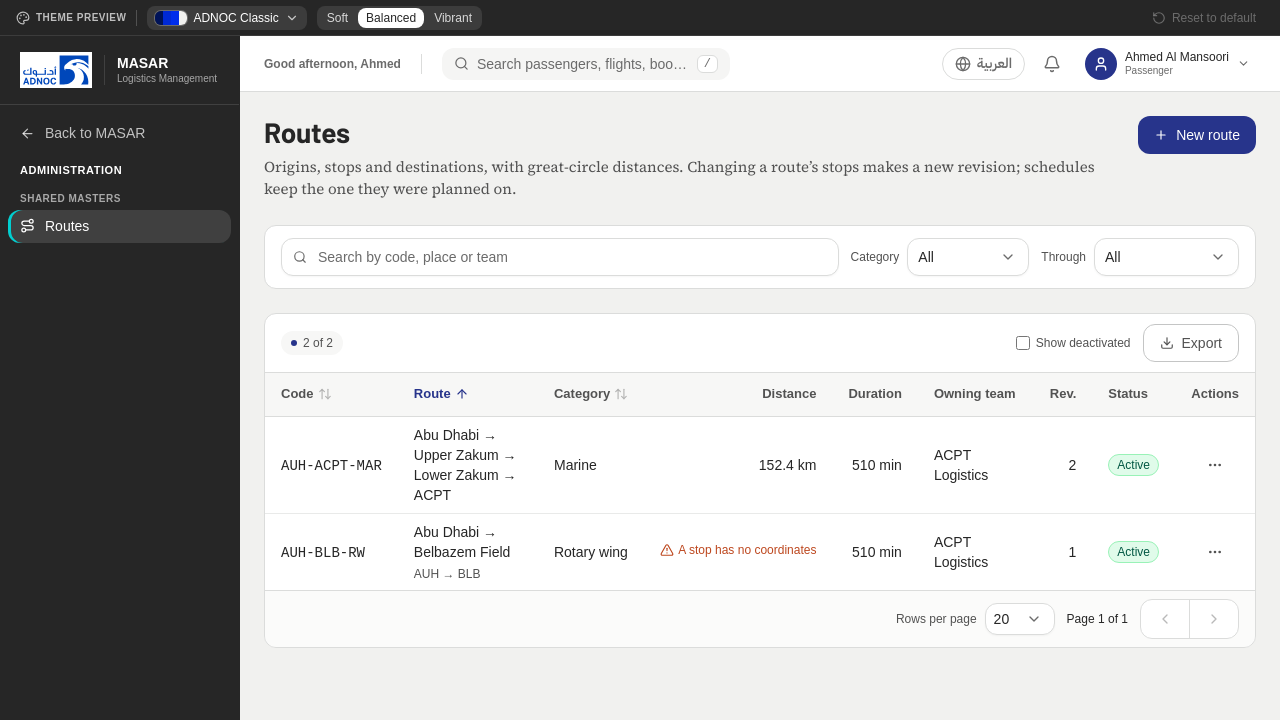
BRD-D.3.1.3-MST the Routes page › BRD-D.3.1.3-MST keeps every revision of a route’s path
The image size is (1280, 720).
Click the button named "Actions for AUH-ACPT-MAR · Abu Dhabi → Upper Zakum → Lower Zakum → ACPT" at (1215, 465), box top-left (1191, 446), bottom-right (1239, 484)
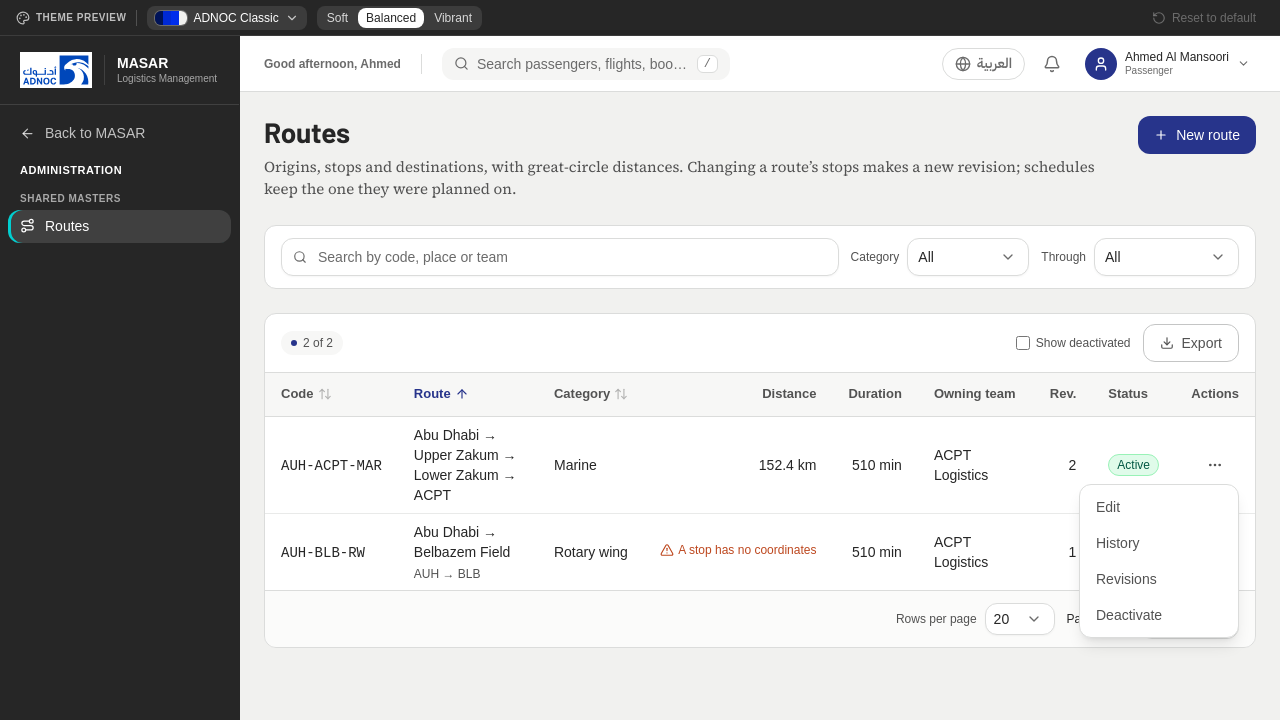
Click the menu item "Revisions" at (1126, 579), box top-left (1096, 571), bottom-right (1157, 587)
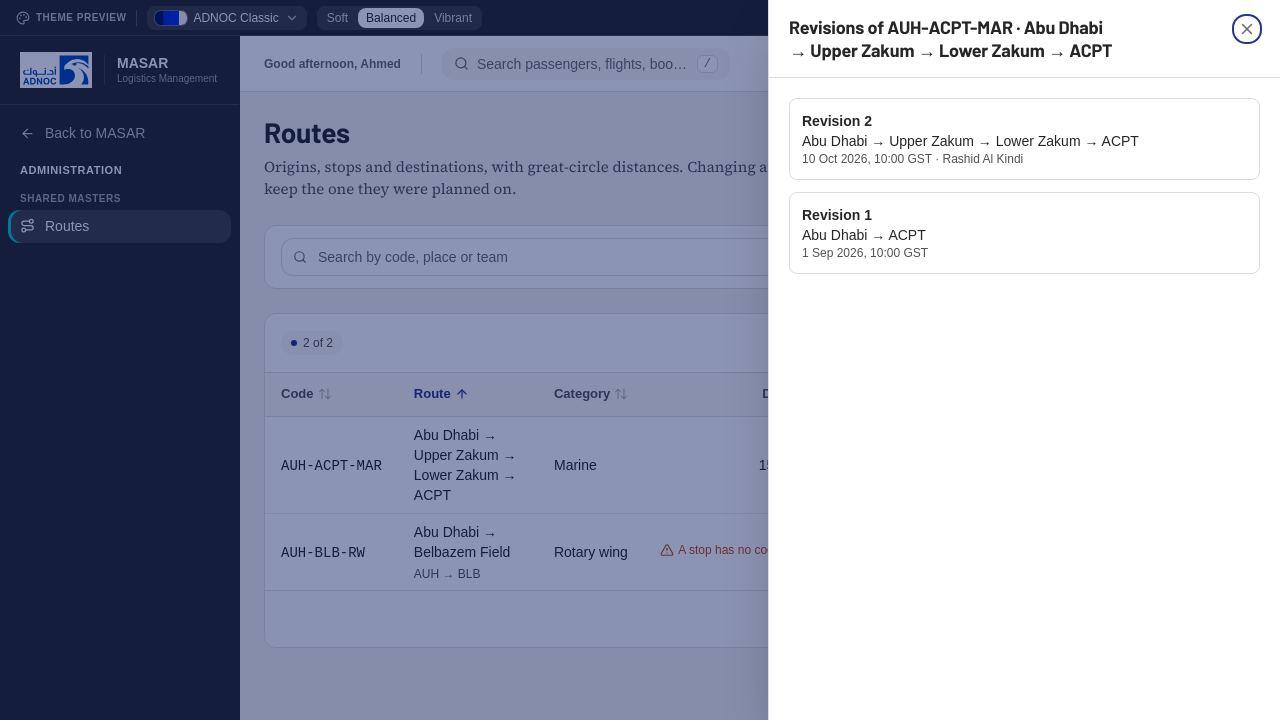
Expected: the text "Revision 2" is shown, top-left (802, 113), bottom-right (872, 129)
Expected: the text "Abu Dhabi → ACPT" is shown, top-left (802, 227), bottom-right (926, 243)
